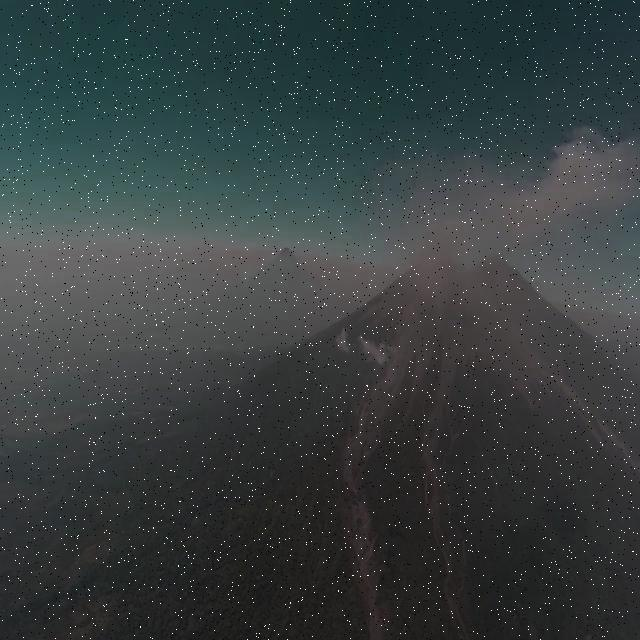Plume: (372, 125, 640, 325)
